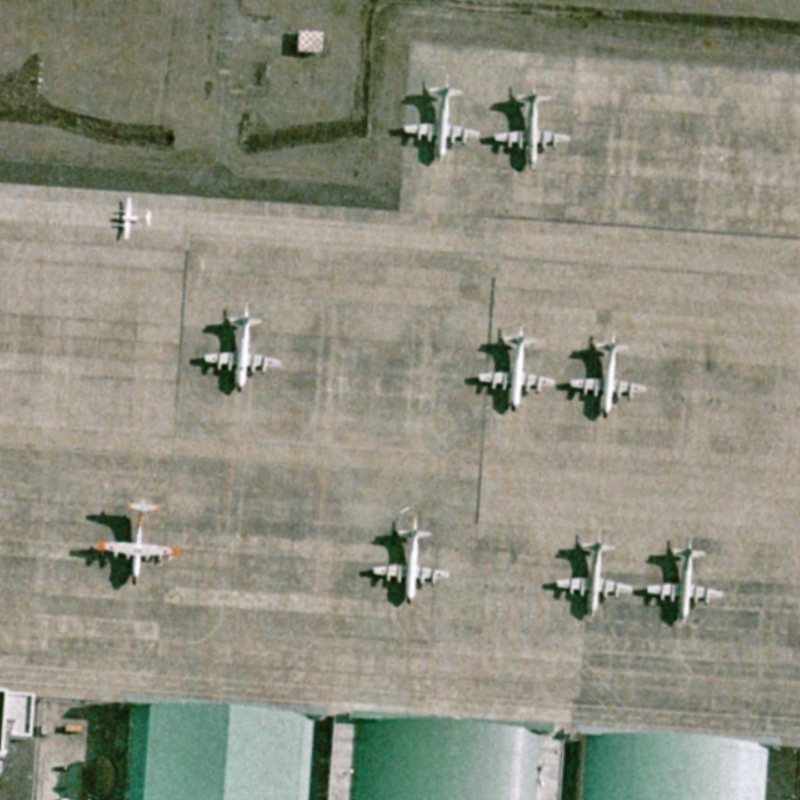A2: (80, 489, 185, 594)
A9: (188, 291, 291, 399), (543, 524, 639, 630), (463, 319, 561, 422), (642, 525, 732, 634), (388, 69, 487, 168), (357, 510, 454, 611), (561, 325, 657, 421), (481, 79, 574, 178)
